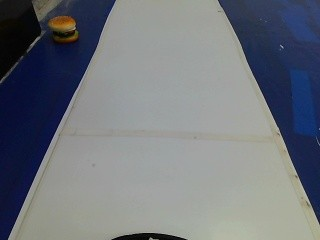burger: (38, 9, 84, 49)
